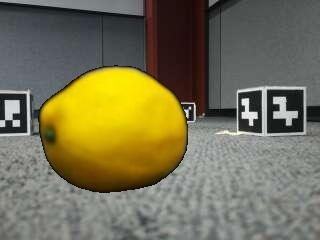lemon: (41, 68, 186, 194)
